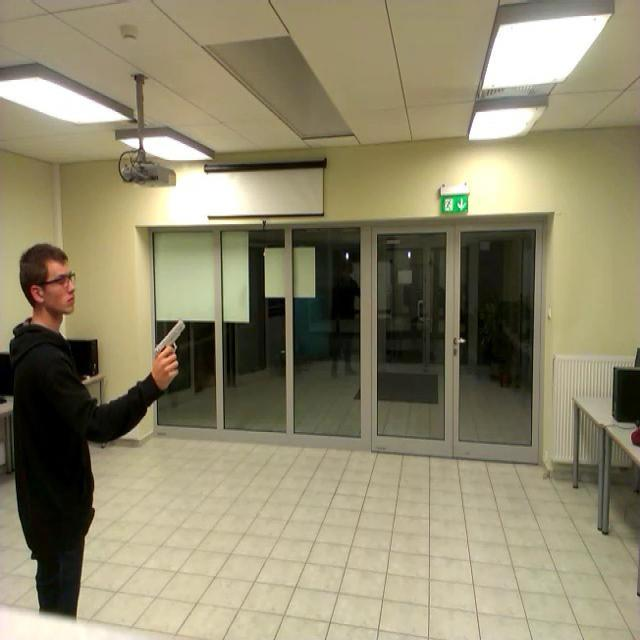weapon: (152, 319, 185, 356)
